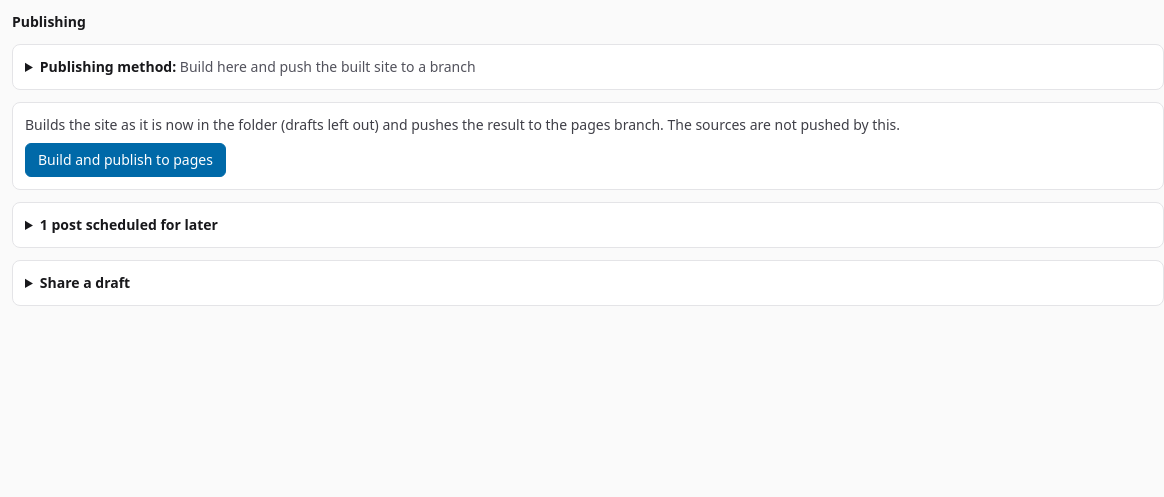
Test case: DeploySection › publishes with the gh-pages method and follows the branch
This screenshot has width=1164, height=497.
What coordinates should you click on to do the following:
click the button "Build and publish to pages"
I would click on:
 (125, 160)
Its box is [25,143,226,177].
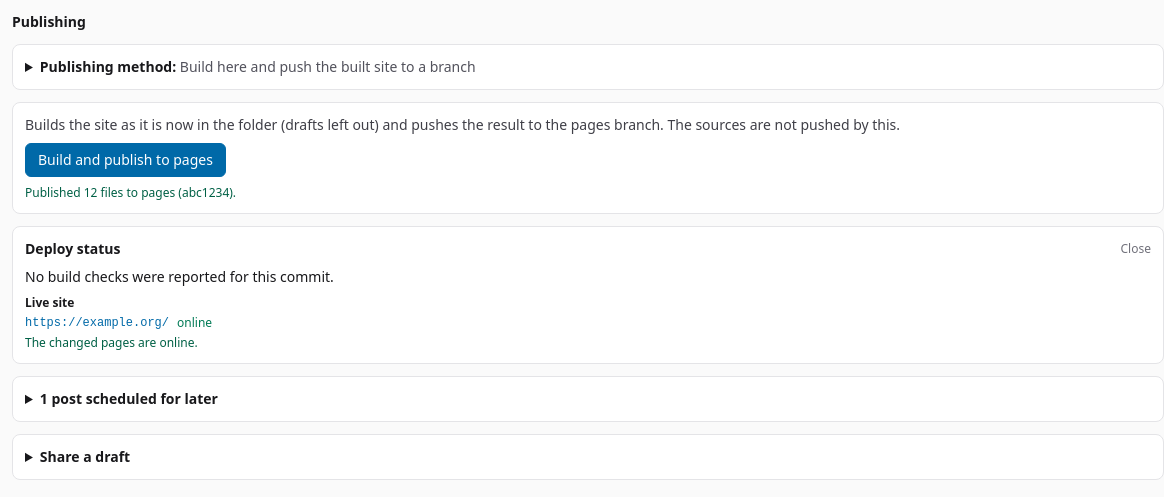
expect the text "Published 12 files to pages (abc1234)." is shown: met, box [25,184,236,201]
